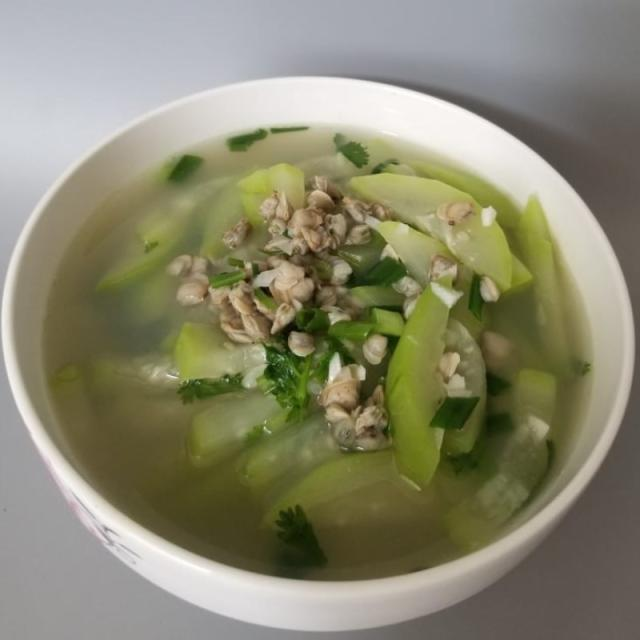canh bau: (47, 123, 595, 581)
